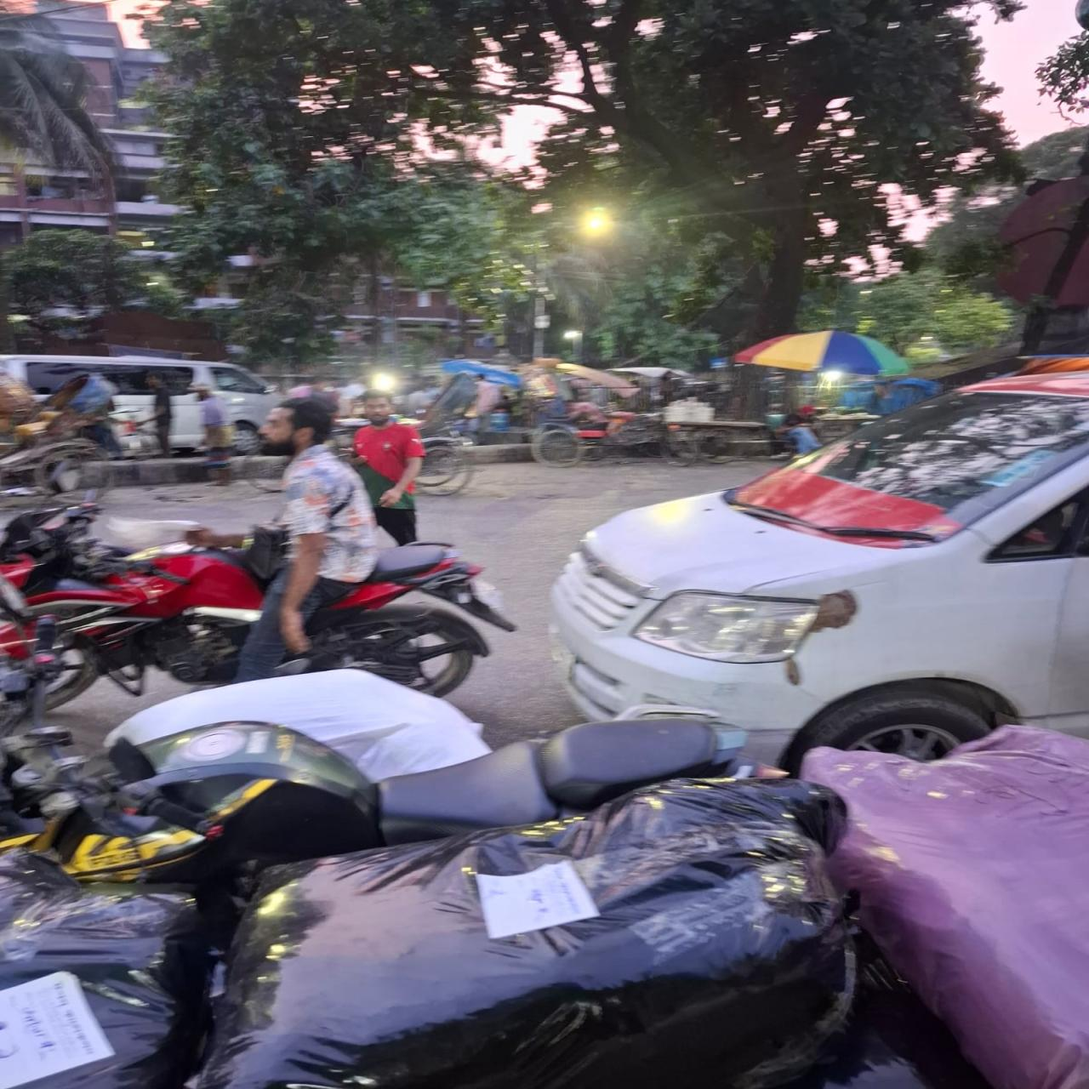person: (357, 392, 442, 548)
